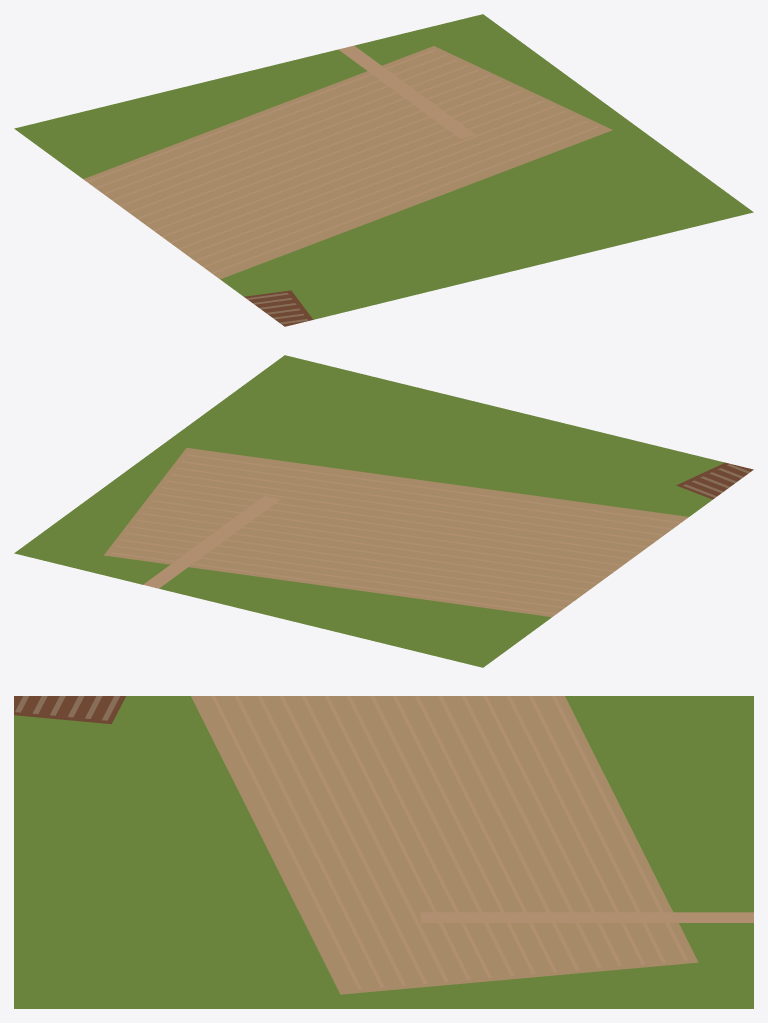
Rendered from crossing-8-1.glb.
The picture shows the model from 3 angles, top to bottom: view 1: azimuth 30°, elevation 25°; view 2: azimuth 150°, elevation 25°; view 3: azimuth 270°, elevation 25°; orthographic projection. The views are drawn at different scales.
Visible parts, largest first — view 1: crossing-8-1; view 2: crossing-8-1; view 3: crossing-8-1.
Part boxes in pixels (box(x1,y1,x2,y2)): crossing-8-1: box(14, 14, 753, 326); crossing-8-1: box(14, 355, 753, 667); crossing-8-1: box(14, 696, 753, 1008).
Bounding box in the file's own units: 100 × 0.0072 × 100.
